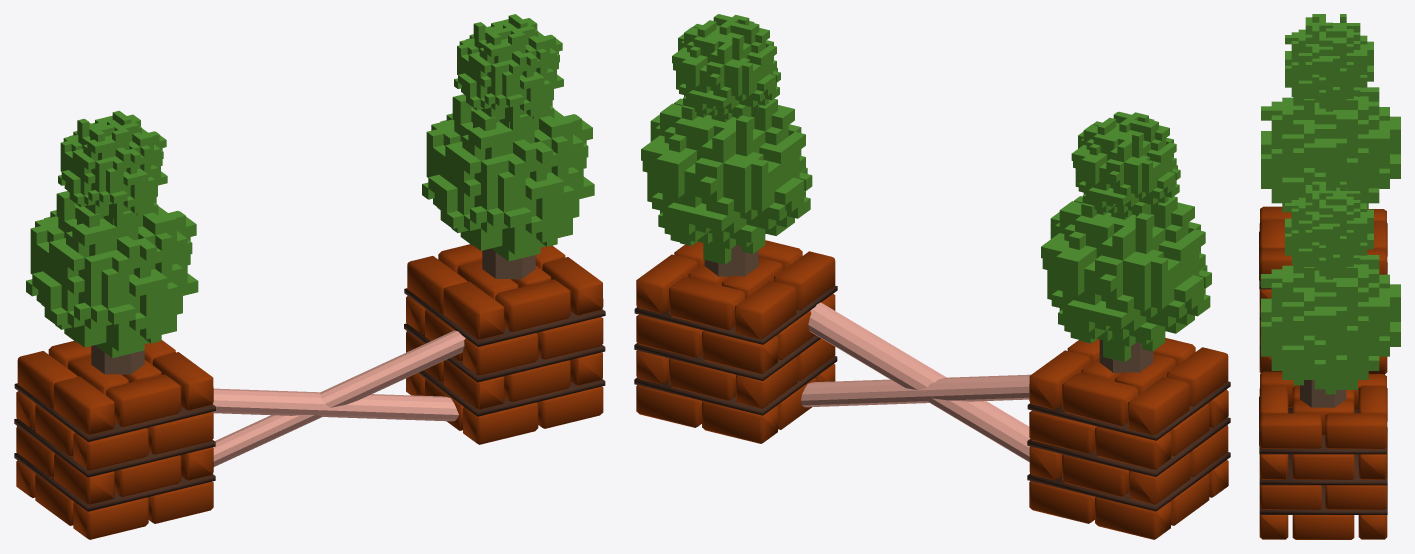
The model's file is Obstaculos2.fbx.
3 views of the same model, side by side, from view 1: azimuth 30°, elevation 25°; view 2: azimuth 150°, elevation 25°; view 3: azimuth 270°, elevation 25° (orthographic). The views are drawn at different scales.
Parts seen in each view (by area): view 1: Obstaculo2; view 2: Obstaculo2; view 3: Obstaculo2.
Boxes of the visible parts, x1=… form: Obstaculo2: x1=14, y1=14, x2=605, y2=539; Obstaculo2: x1=634, y1=14, x2=1230, y2=539; Obstaculo2: x1=1259, y1=14, x2=1400, y2=539.
Bounding box in the file's own units: 819 × 547 × 216.
